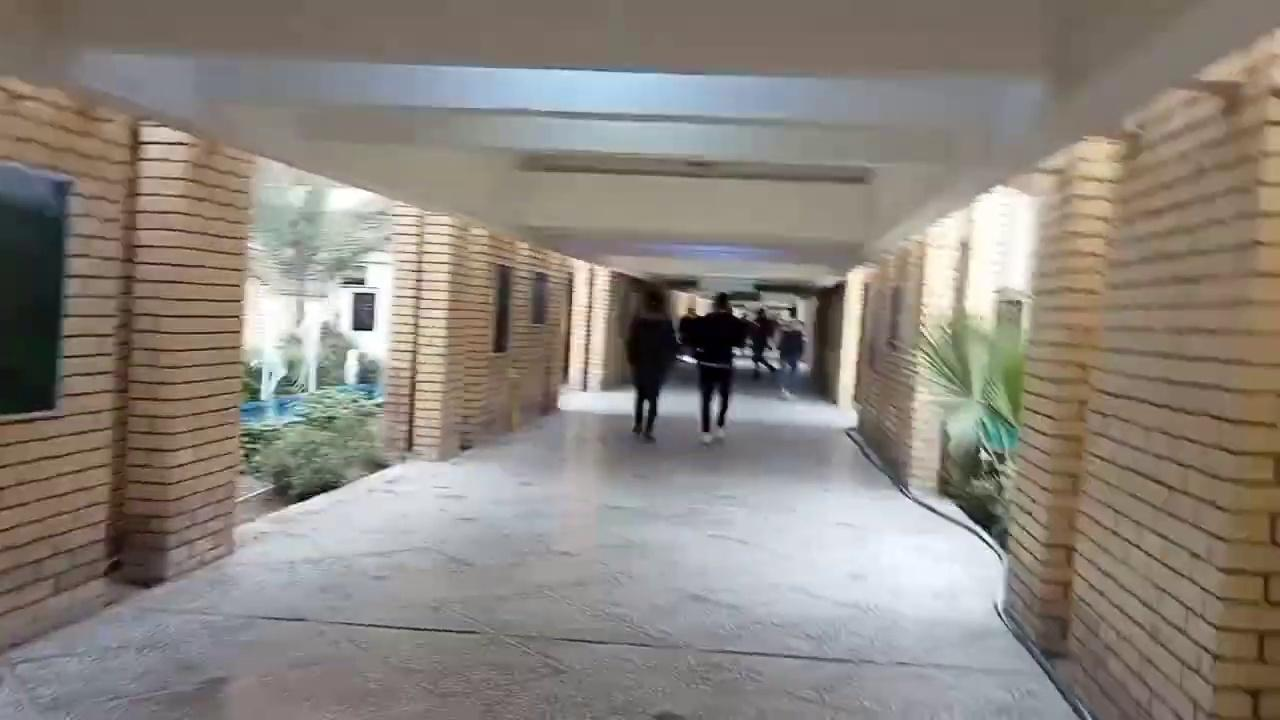fountain: (238, 317, 387, 500), (239, 394, 308, 427)
person: (678, 291, 750, 443), (625, 287, 679, 442), (774, 307, 807, 400), (749, 307, 776, 378)
tree: (887, 303, 1024, 542), (245, 184, 392, 393), (315, 318, 359, 387)
